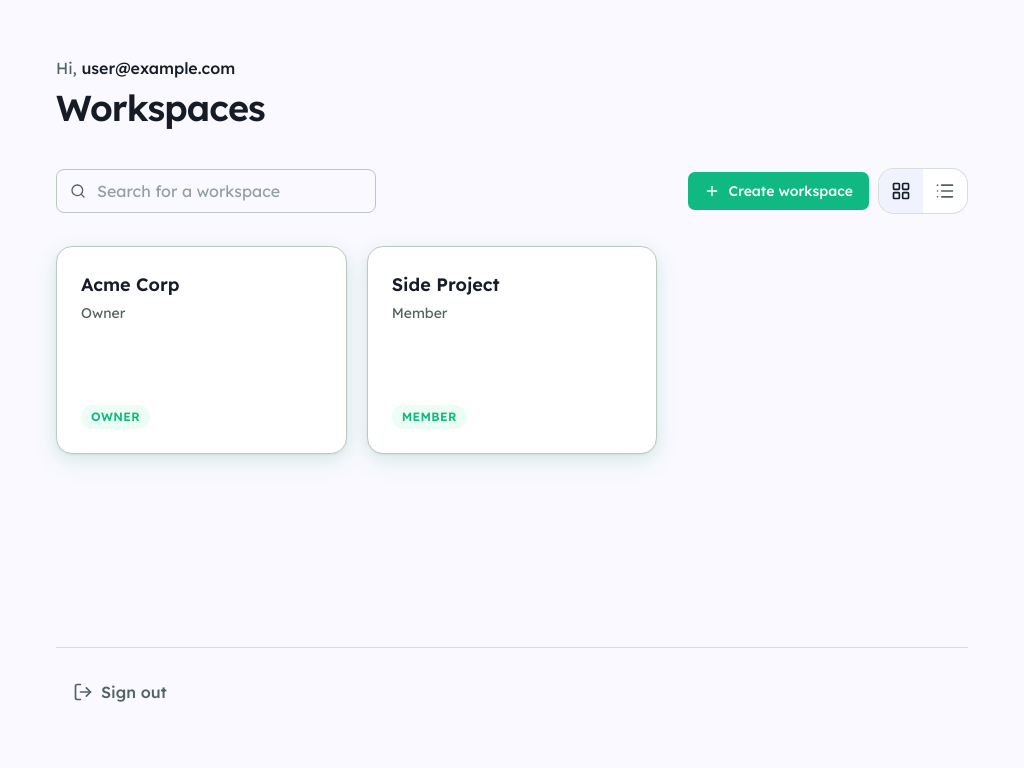
Test: WorkspaceChooser page › opens create workspace dialog on button click
The image size is (1024, 768).
Expected: the text "Acme Corp" is shown, [81,271,180,299]
Click the button "Create workspace": point(779, 191) [688,171,870,211]
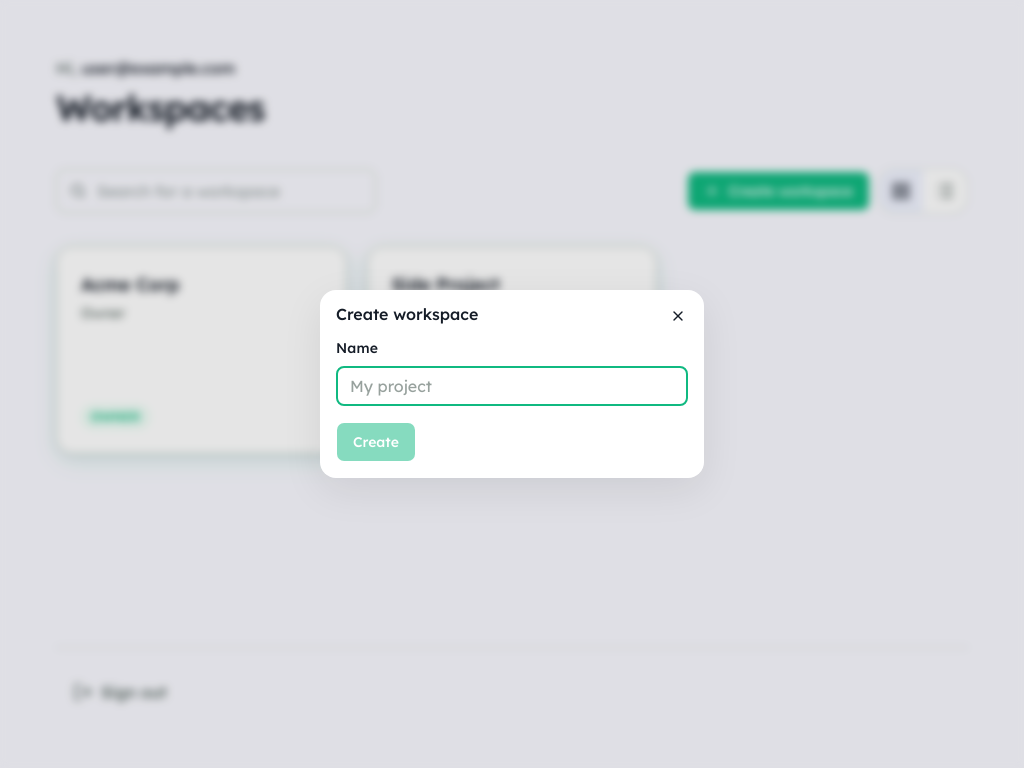
Result: the dialog is shown at [320,290,704,478]
Result: the field labelled "Name" is shown at [336,366,688,406]
